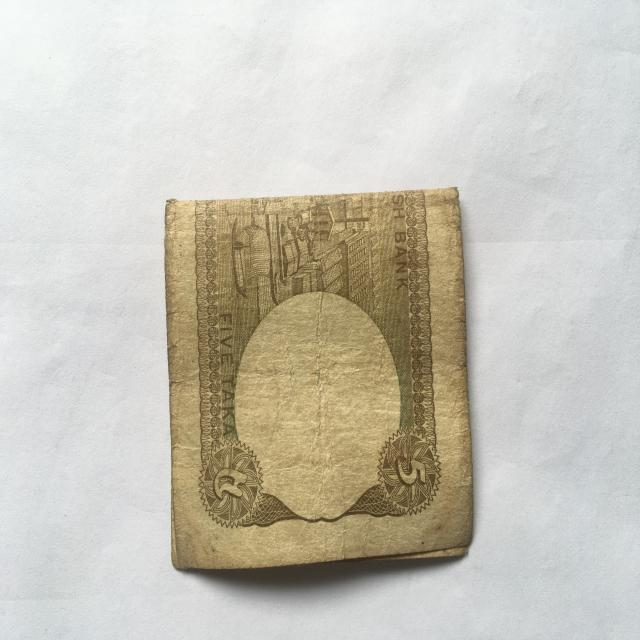Taka: (154, 186, 478, 574)
